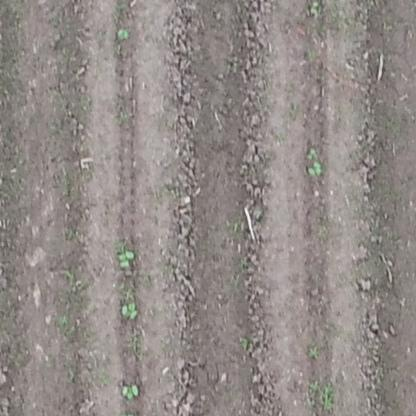vc: (117, 247, 138, 270), (120, 299, 140, 322), (120, 383, 142, 400), (307, 162, 322, 177), (304, 146, 318, 160), (116, 28, 131, 39)
